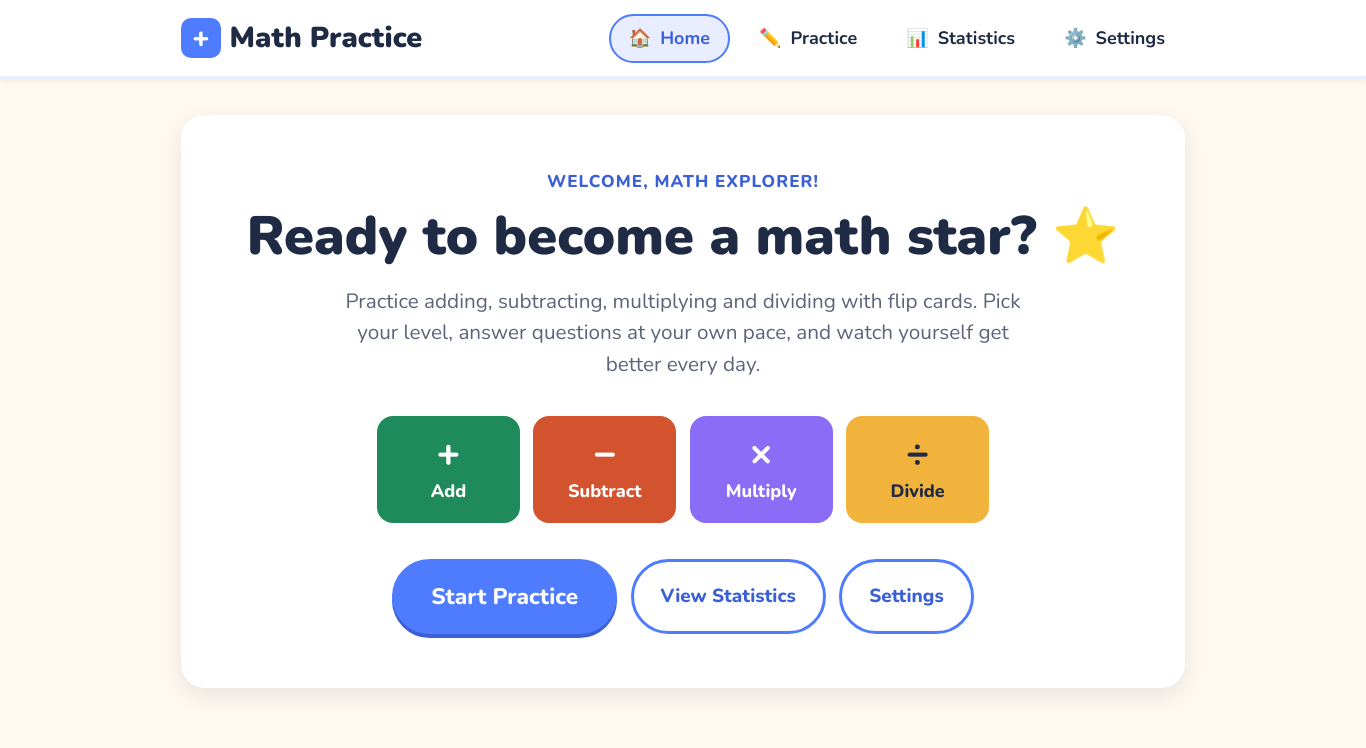
Test case: App › navigates to practice setup when Start Practice is clicked
Click the link "Start Practice" at (505,597), box 392,559 -> 617,634
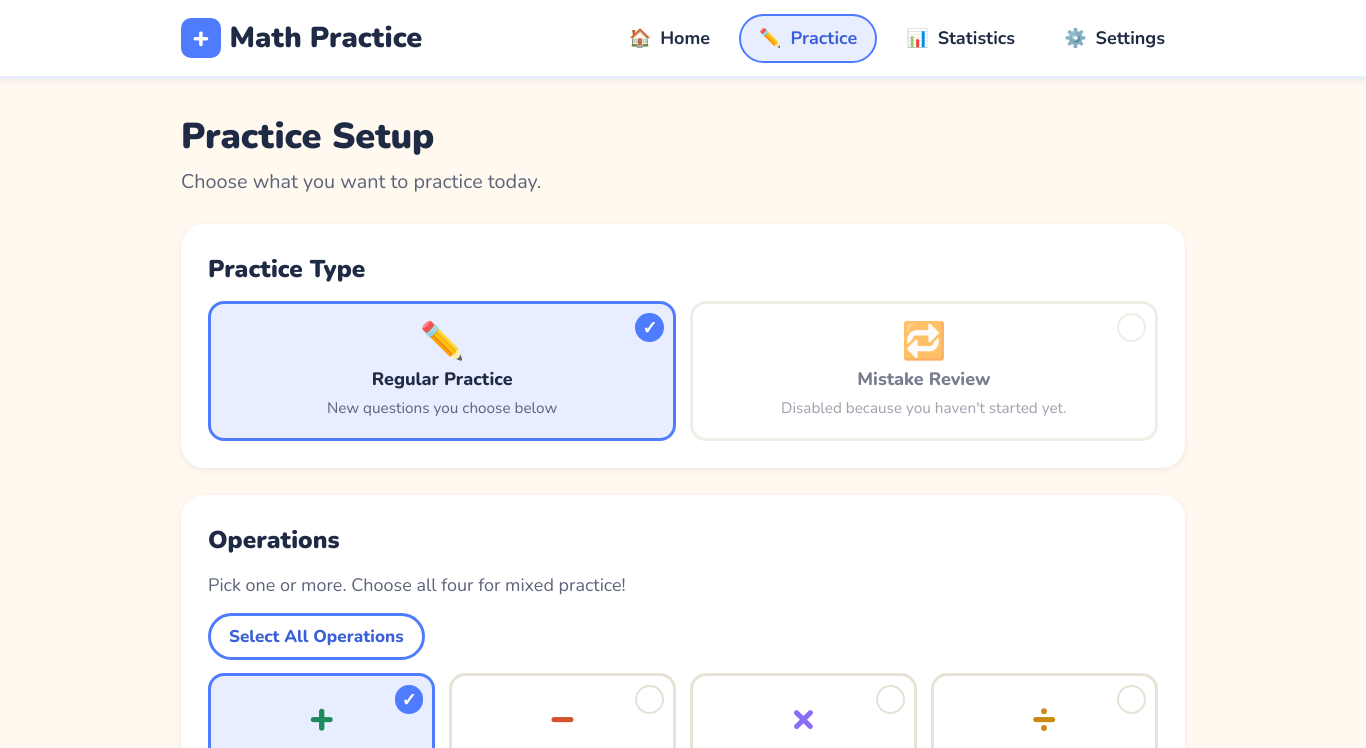
Expected: the heading "Practice Setup" is shown, 181,112 -> 434,161
